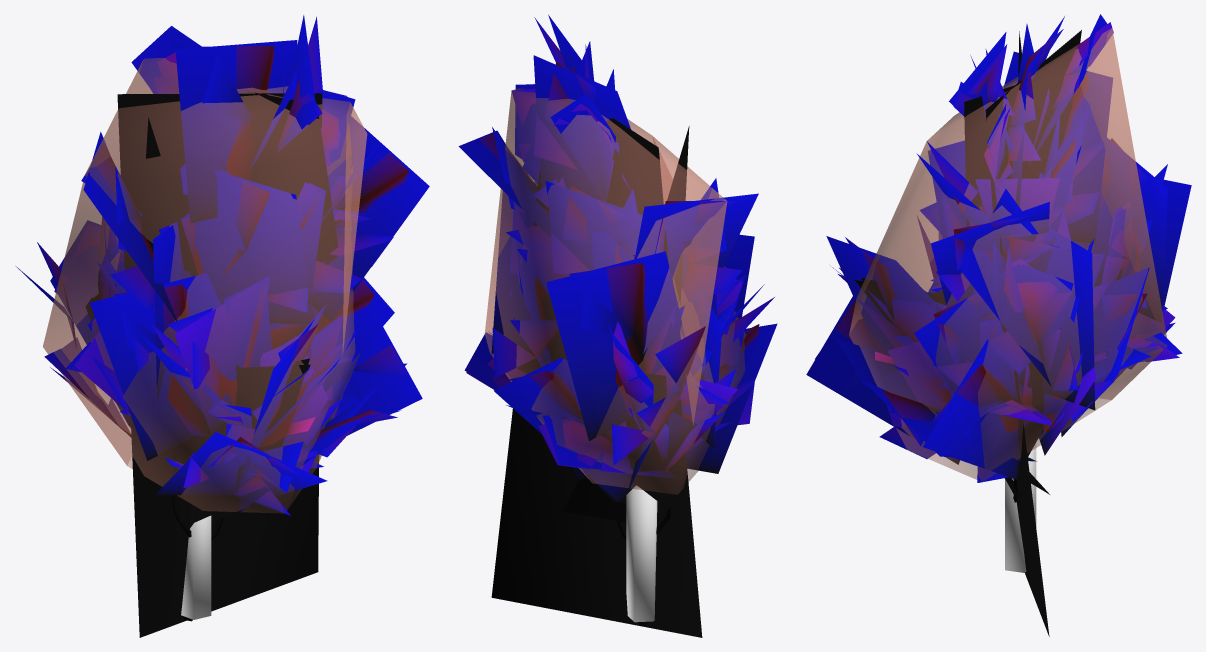
File: tree_beech_bush_e.dae
3 renders of one model, left to right at view 1: azimuth 30°, elevation 25°; view 2: azimuth 150°, elevation 25°; view 3: azimuth 270°, elevation 25°, orthographic. The views are drawn at different scales.
Visible parts, largest first — view 1: beech_bush_e_a300, Colmesh_bush_e-1, beech_bush_e_a1000; view 2: beech_bush_e_a300, Colmesh_bush_e-1, beech_bush_e_a1000; view 3: Colmesh_bush_e-1, beech_bush_e_a300, beech_bush_e_a1000.
Boxes of the visible parts, x1=… form: beech_bush_e_a300: x1=47, y1=15, x2=429, y2=637; Colmesh_bush_e-1: x1=43, y1=58, x2=367, y2=619; beech_bush_e_a1000: x1=16, y1=16, x2=409, y2=623; beech_bush_e_a300: x1=458, y1=14, x2=777, y2=637; Colmesh_bush_e-1: x1=484, y1=83, x2=746, y2=622; beech_bush_e_a1000: x1=466, y1=17, x2=774, y2=626; Colmesh_bush_e-1: x1=849, y1=28, x2=1167, y2=572; beech_bush_e_a300: x1=806, y1=14, x2=1191, y2=636; beech_bush_e_a1000: x1=815, y1=22, x2=1179, y2=577.
Size of the model in its own units: 3.39 by 3.63 by 6.19.
